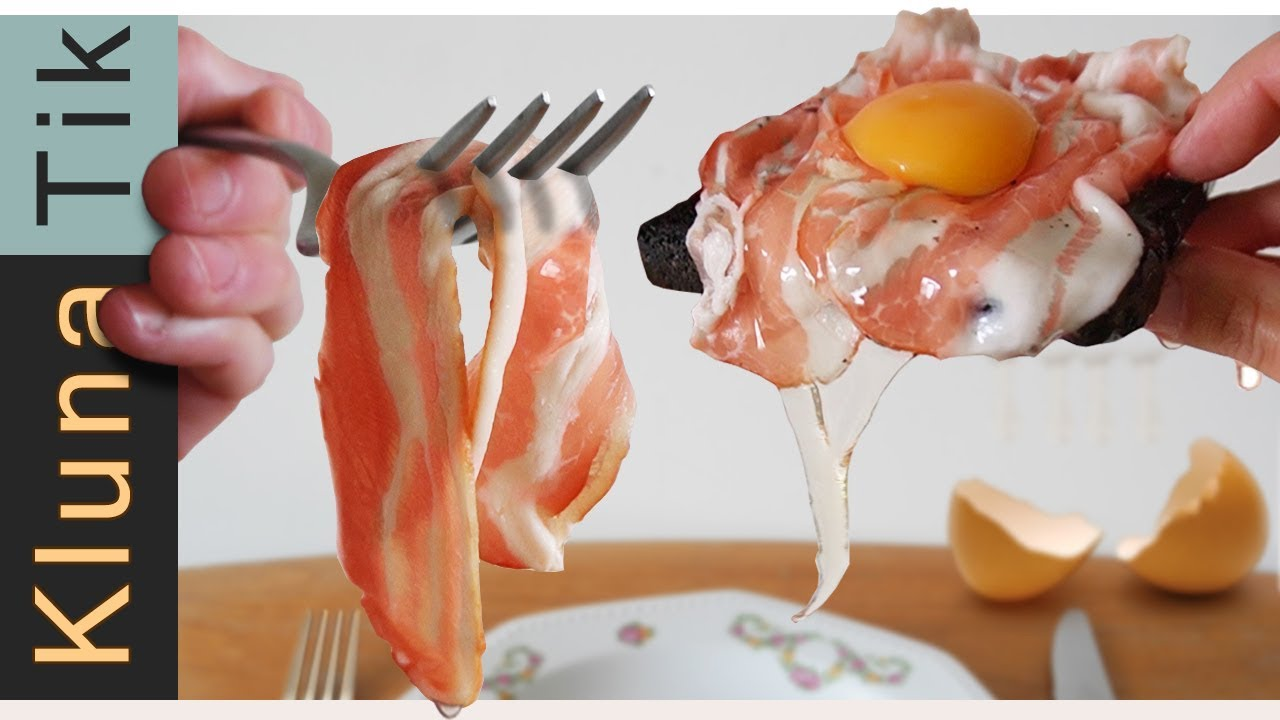bacon: (336, 117, 661, 681)
